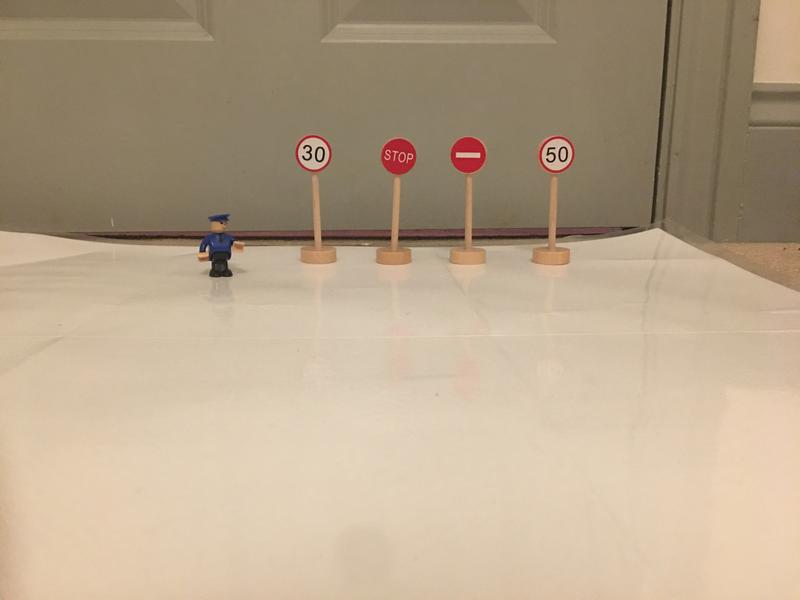Traffic_Sign_30: (296, 135, 332, 172)
Traffic_Sign_50: (540, 137, 573, 173)
Traffic_Sign_No_Entry: (452, 138, 487, 174)
Traffic_Sign_Stop: (382, 138, 416, 174)
person: (196, 213, 245, 281)
